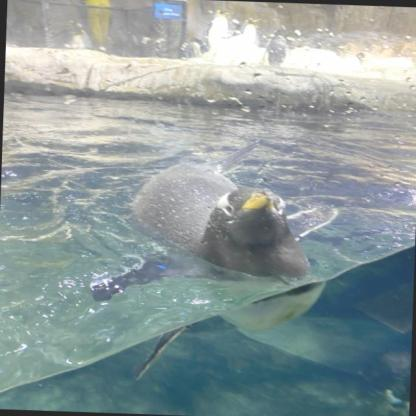penguin: (85, 132, 341, 389), (203, 8, 234, 50), (263, 28, 291, 66), (238, 18, 261, 46), (68, 26, 92, 50), (6, 3, 18, 48)
